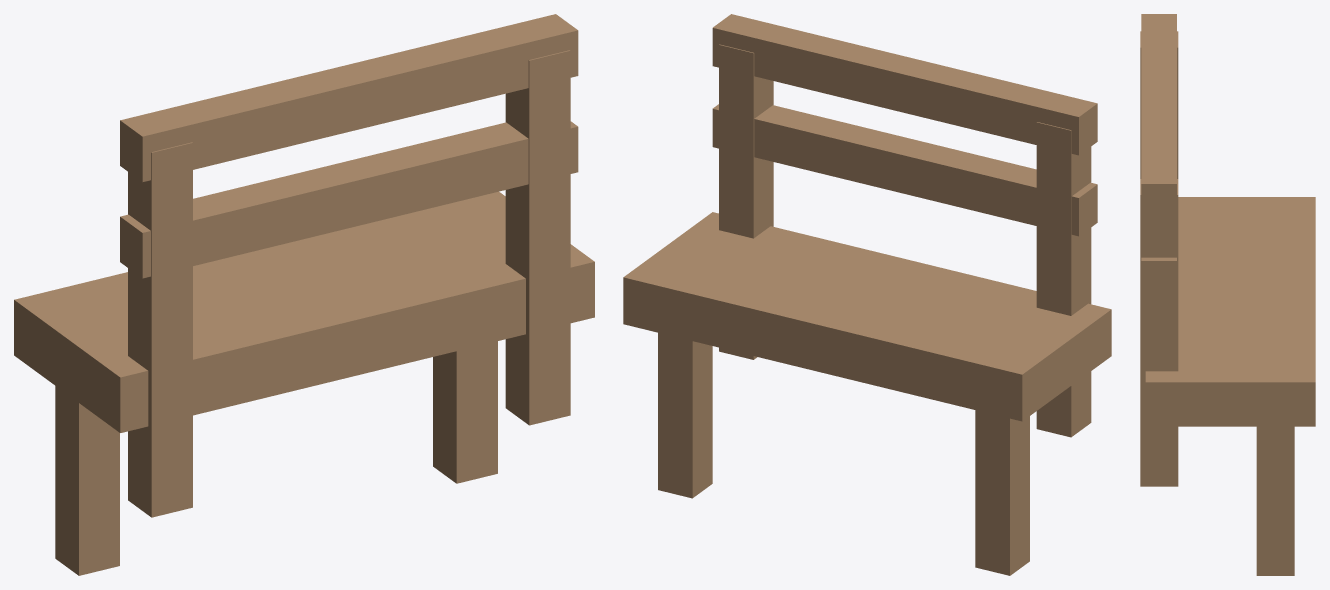
Rendered from bench.glb.
The picture shows the model from 3 angles, left to right: view 1: azimuth 30°, elevation 25°; view 2: azimuth 150°, elevation 25°; view 3: azimuth 270°, elevation 25°; orthographic projection. The views are drawn at different scales.
Parts seen in each view (by area): view 1: bench_0; view 2: bench_0; view 3: bench_0.
Part boxes in pixels (left/top/right/bottom): bench_0: left=14, top=14, right=594, bottom=575; bench_0: left=623, top=14, right=1111, bottom=575; bench_0: left=1140, top=14, right=1315, bottom=575.
Bounding box in the file's own units: 0.98 × 0.975 × 0.3925.
